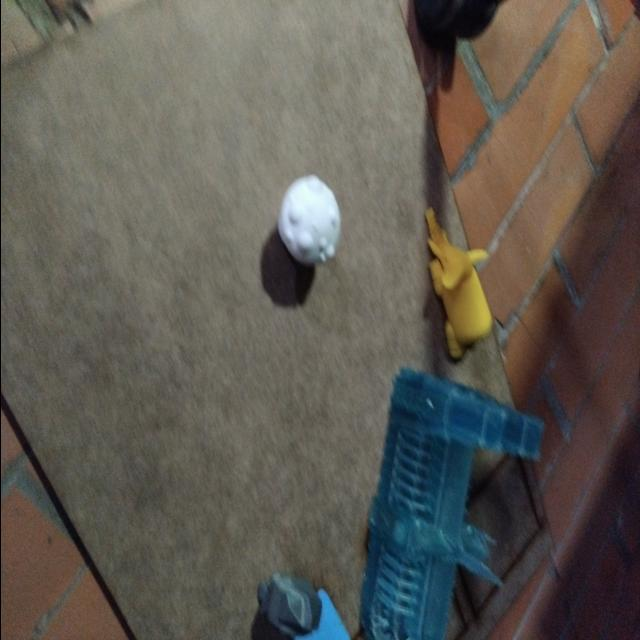Hongo: (276, 162, 350, 268)
